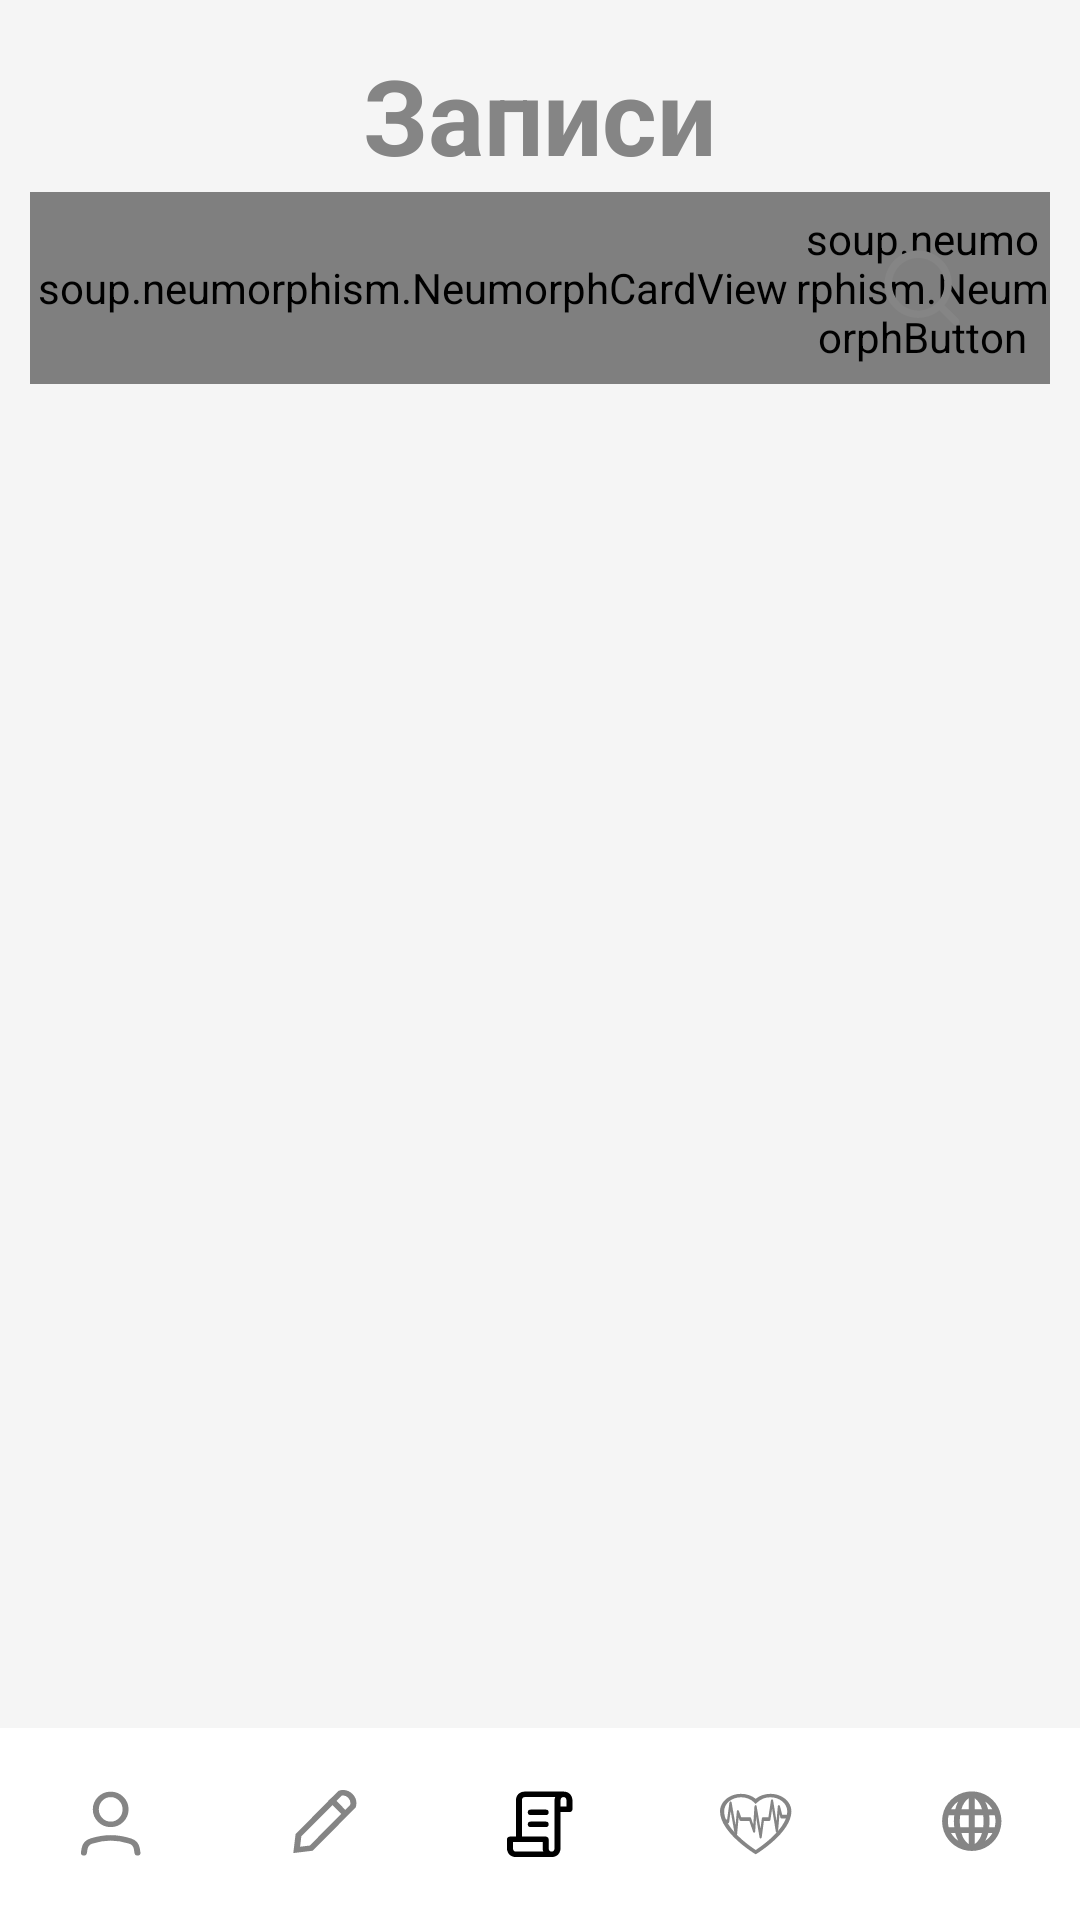

Point at icon controls on the screen. Image size 1080px x 1920px, points as point (x, y).
edit: point (325, 1821)
heart: point (756, 1823)
profile: point (111, 1823)
scroll: point (540, 1824)
